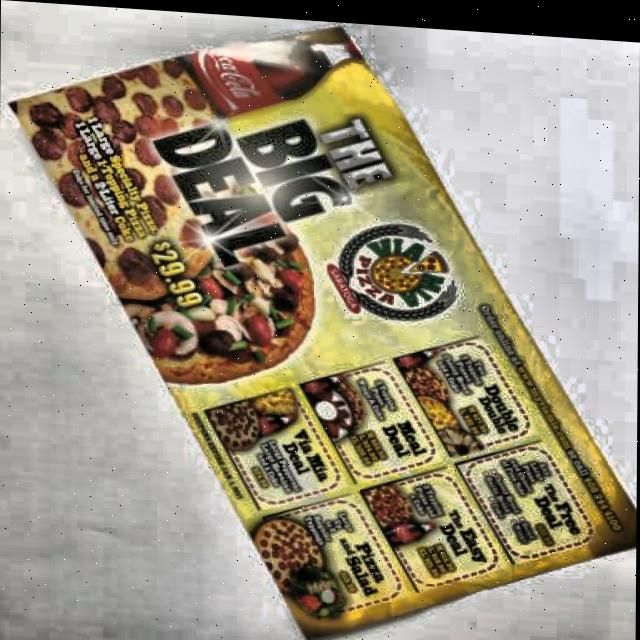paper: (1, 5, 639, 640)
